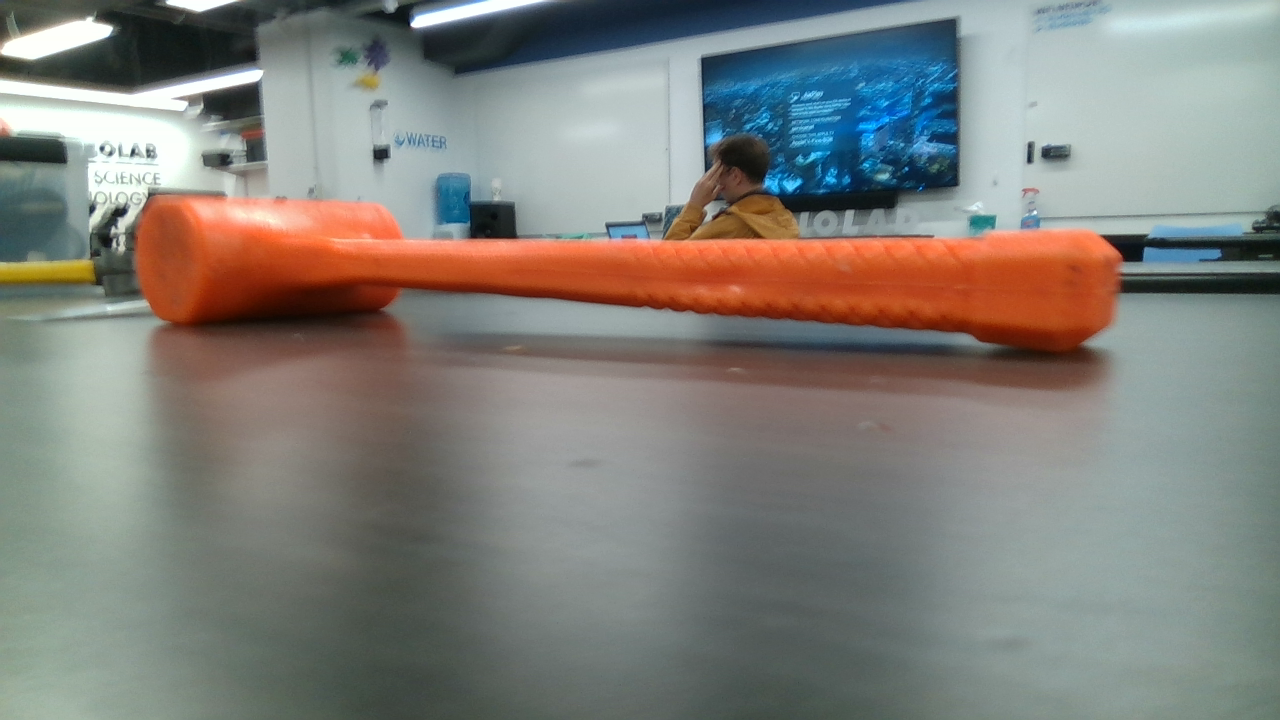Orange Hammer: (146, 195, 1114, 349)
